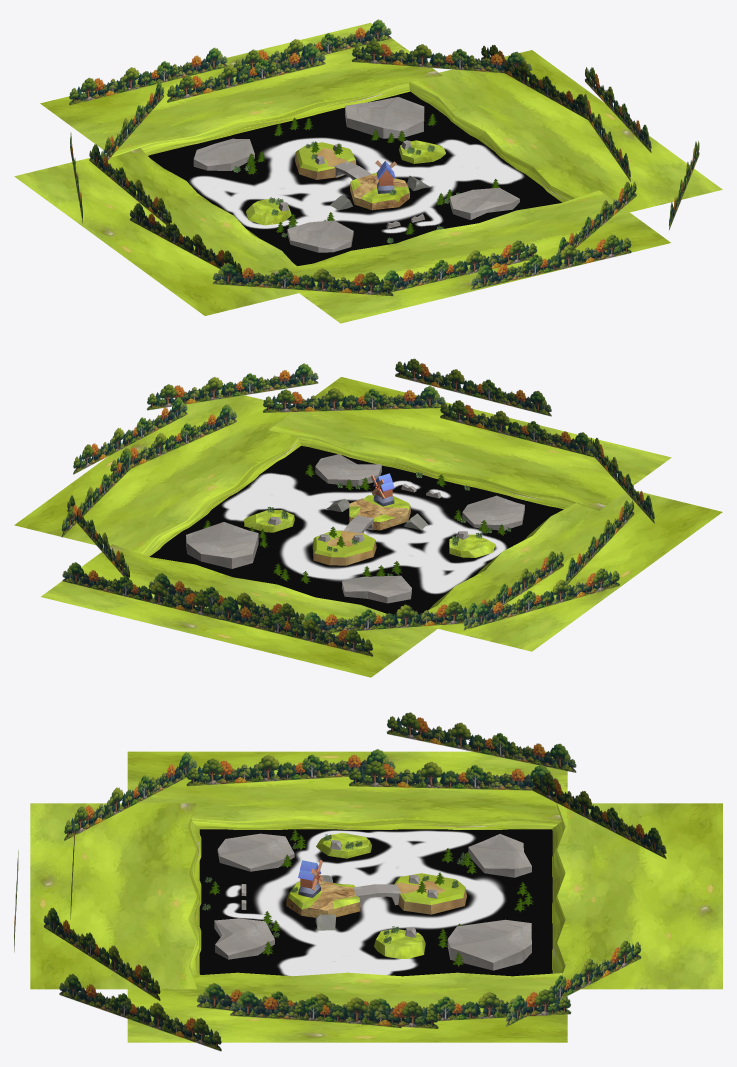
The model's file is TL_the hillfix.glb.
3 renders of one model, top to bottom at view 1: azimuth 30°, elevation 25°; view 2: azimuth 150°, elevation 25°; view 3: azimuth 270°, elevation 25°, orthographic. The views are drawn at different scales.
Parts seen in each view (by area): view 1: Plane; view 2: Plane; view 3: Plane, unit-mill.
Boxes of the visible parts, x1=… form: Plane: x1=14, y1=19, x2=722, y2=323; Plane: x1=14, y1=358, x2=722, y2=677; Plane: x1=14, y1=712, x2=722, y2=1051; unit-mill: x1=298, y1=860, x2=320, y2=897.
Bounding box in the file's own units: 2.88 × 0.4226 × 2.82.
10 materials, 10 textured.
